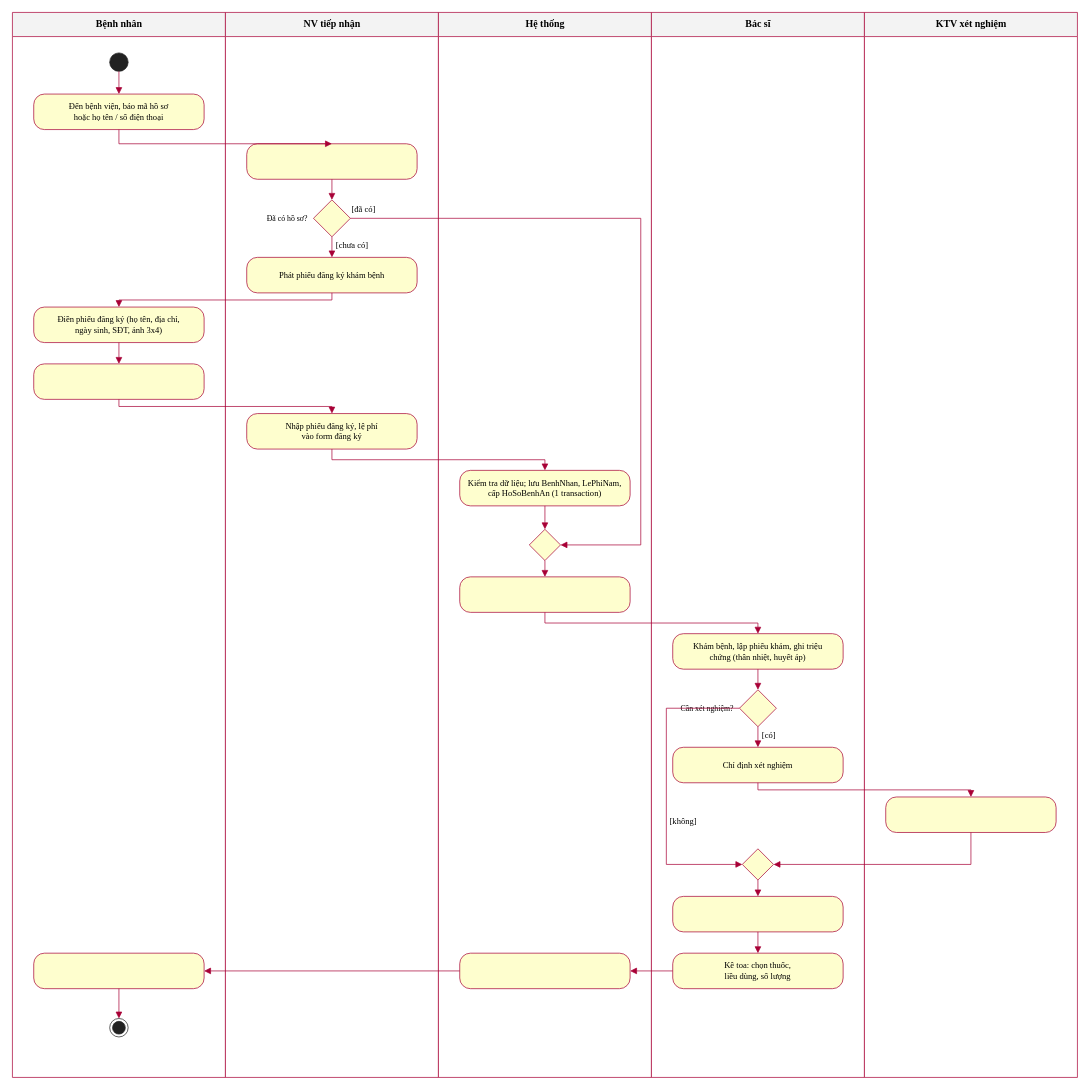
The diagram is 1090 pixels wide and 1090 high, and some of its shapes have lost their labels. The shapes that lost their labels are listed below. From the top down, each one's centre as x and y in pixels, then its label:
[331,161]: Tra cứu hồ sơ bệnh án
[118,381]: Đóng lệ phí quản lý năm
[544,594]: Hiển thị hồ sơ và lịch sử bệnh án
[970,814]: Thực hiện xét nghiệm, cập nhật kết quả
[757,914]: Xem kết quả, ghi kết luận chẩn đoán
[118,970]: Nhận toa thuốc
[544,970]: Kiểm tra, lưu ToaThuoc + chi tiết; cập nhật "Đã lập toa"
